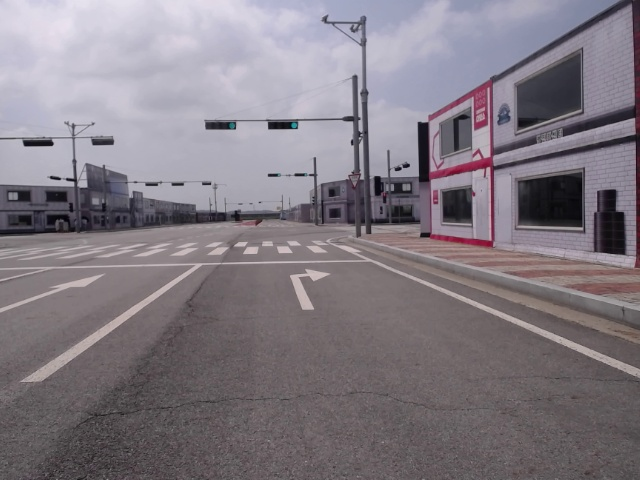straight_green_4: (205, 122, 235, 130), (268, 122, 298, 129), (267, 172, 281, 177), (294, 172, 308, 177)
